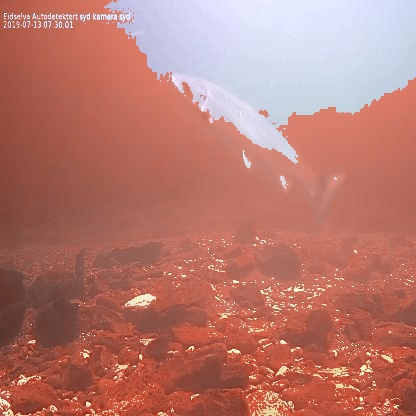salmon: (170, 68, 350, 230)
